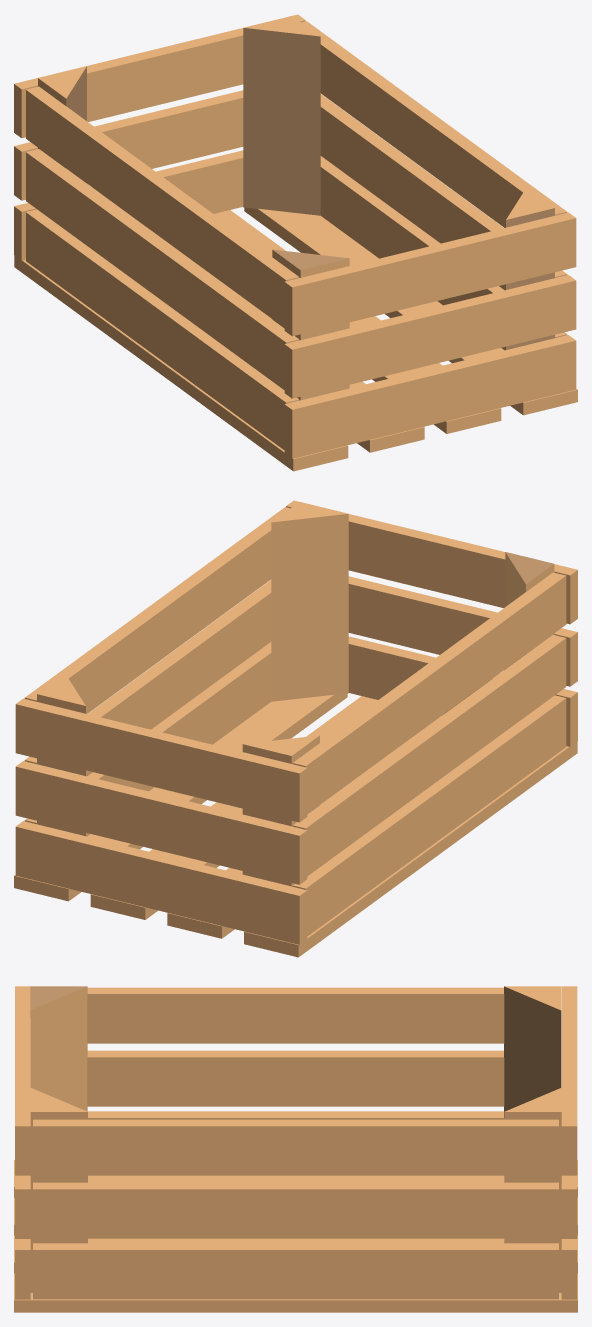
The picture shows the model from 3 angles, top to bottom: view 1: azimuth 30°, elevation 25°; view 2: azimuth 150°, elevation 25°; view 3: azimuth 270°, elevation 25°; orthographic projection.
Parts seen in each view (by area): view 1: crates.011; view 2: crates.011; view 3: crates.011.
Boxes of the visible parts, left/top/right/bottom form: crates.011: left=14, top=14, right=577, bottom=471; crates.011: left=14, top=500, right=577, bottom=957; crates.011: left=14, top=986, right=577, bottom=1312.
Bounding box in the file's own units: 198 × 127 × 335.
